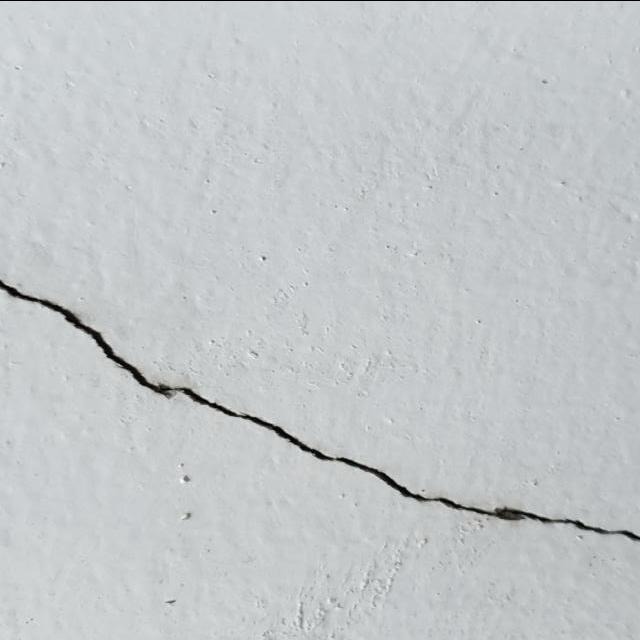SurfaceCrack: (0, 242, 639, 568)
